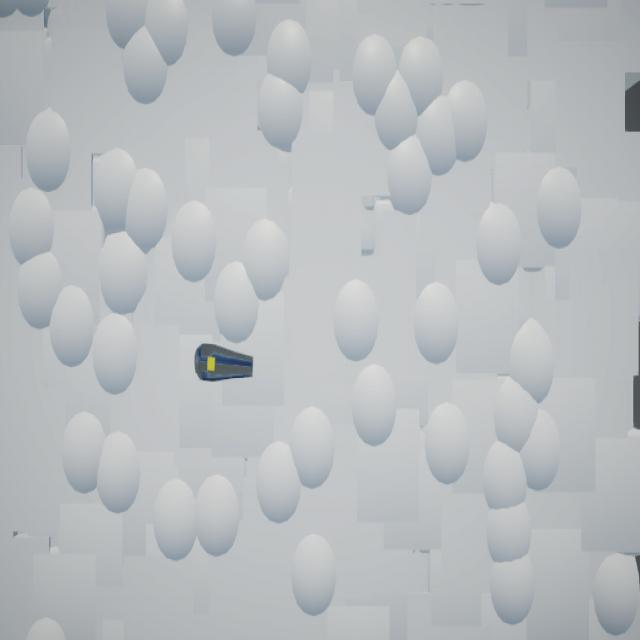handle_knife: (196, 344, 255, 383)
